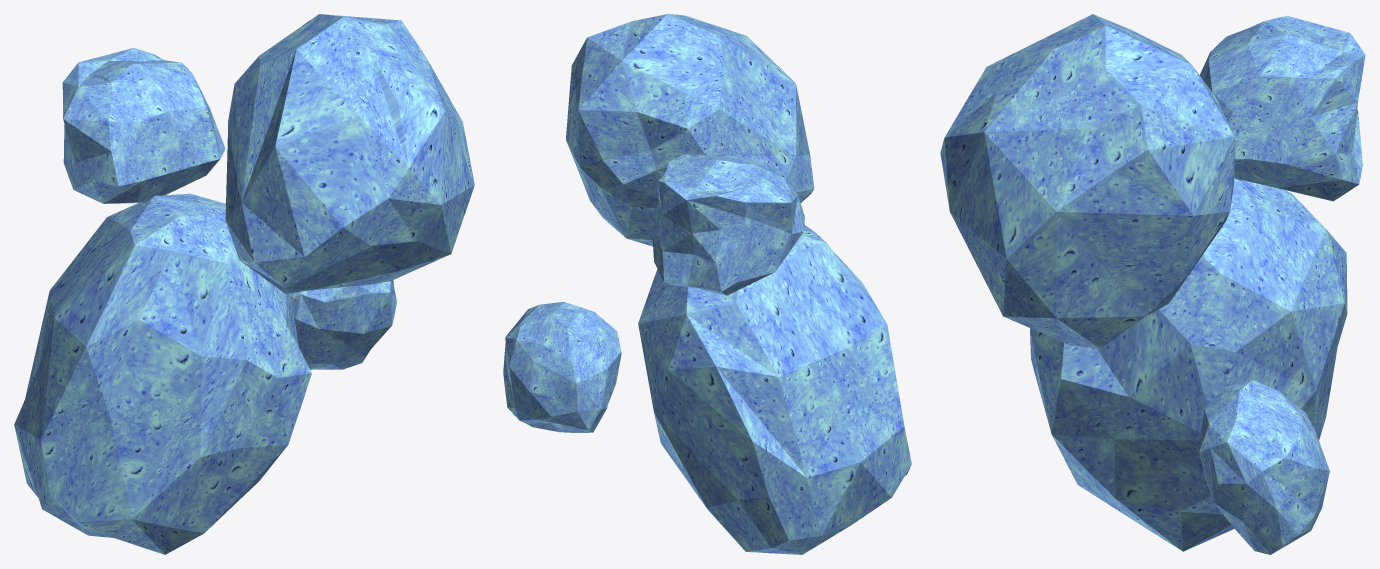
Rendered from ui_asteroid_sm.fbx.
3 views of the same model, side by side, from view 1: azimuth 30°, elevation 25°; view 2: azimuth 150°, elevation 25°; view 3: azimuth 270°, elevation 25° (orthographic). The views are drawn at different scales.
Visible parts, largest first — view 1: mesh_node; view 2: mesh_node; view 3: mesh_node.
Part boxes in pixels (<box>): mesh_node: <box>14,14,474,554</box>; mesh_node: <box>503,14,911,554</box>; mesh_node: <box>940,14,1365,554</box>.
Bounding box in the file's own units: 0.5686 × 0.7124 × 0.4607.
1 material, 1 textured.
